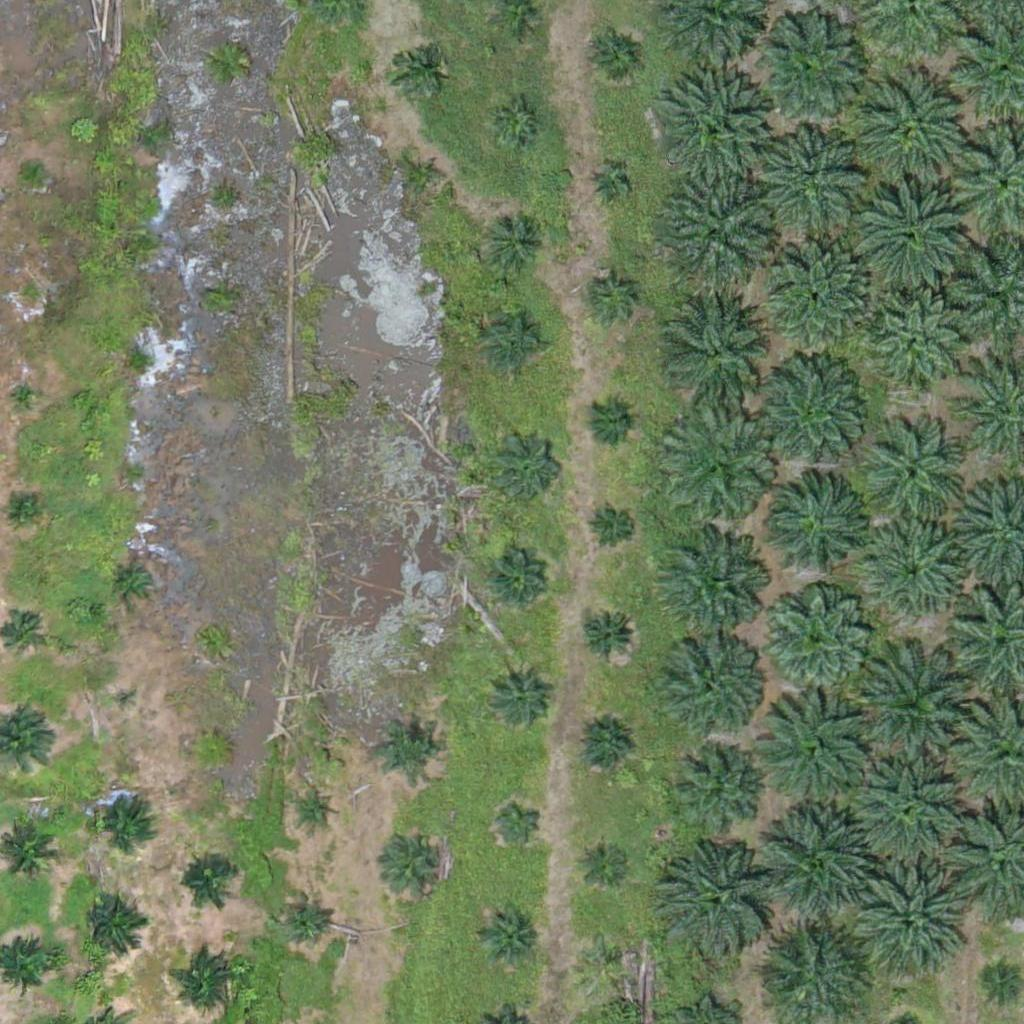Kelapa_Sawit: (856, 644, 981, 770), (654, 838, 779, 964), (851, 752, 964, 866), (761, 697, 874, 811), (759, 582, 872, 696), (663, 414, 776, 528), (849, 861, 962, 974), (762, 803, 875, 916), (660, 73, 773, 186), (661, 175, 774, 288), (661, 290, 774, 403), (753, 359, 866, 472), (656, 533, 768, 647), (755, 11, 867, 124), (860, 69, 972, 182), (856, 176, 968, 289), (771, 242, 871, 343), (767, 128, 867, 229), (868, 296, 968, 397), (865, 428, 965, 529), (662, 631, 762, 732), (866, 521, 966, 621), (770, 475, 870, 575), (672, 748, 760, 836), (490, 427, 565, 502), (388, 831, 451, 894), (377, 715, 440, 778), (92, 787, 155, 850), (486, 554, 549, 617), (475, 903, 538, 966), (576, 604, 639, 667), (178, 949, 240, 1012), (177, 849, 239, 912), (81, 895, 144, 957), (486, 214, 548, 277), (485, 311, 547, 374), (487, 665, 549, 728), (573, 716, 635, 779), (588, 271, 638, 322), (579, 833, 629, 884), (578, 930, 628, 981), (494, 795, 544, 846), (584, 395, 634, 446), (390, 43, 440, 93), (492, 99, 542, 149), (280, 893, 330, 943), (588, 503, 638, 553), (591, 34, 641, 84), (110, 557, 160, 607), (297, 791, 335, 829), (407, 157, 445, 195), (590, 166, 628, 204), (194, 731, 232, 769), (8, 379, 46, 417), (10, 495, 35, 521), (22, 156, 47, 181), (114, 685, 139, 710)
